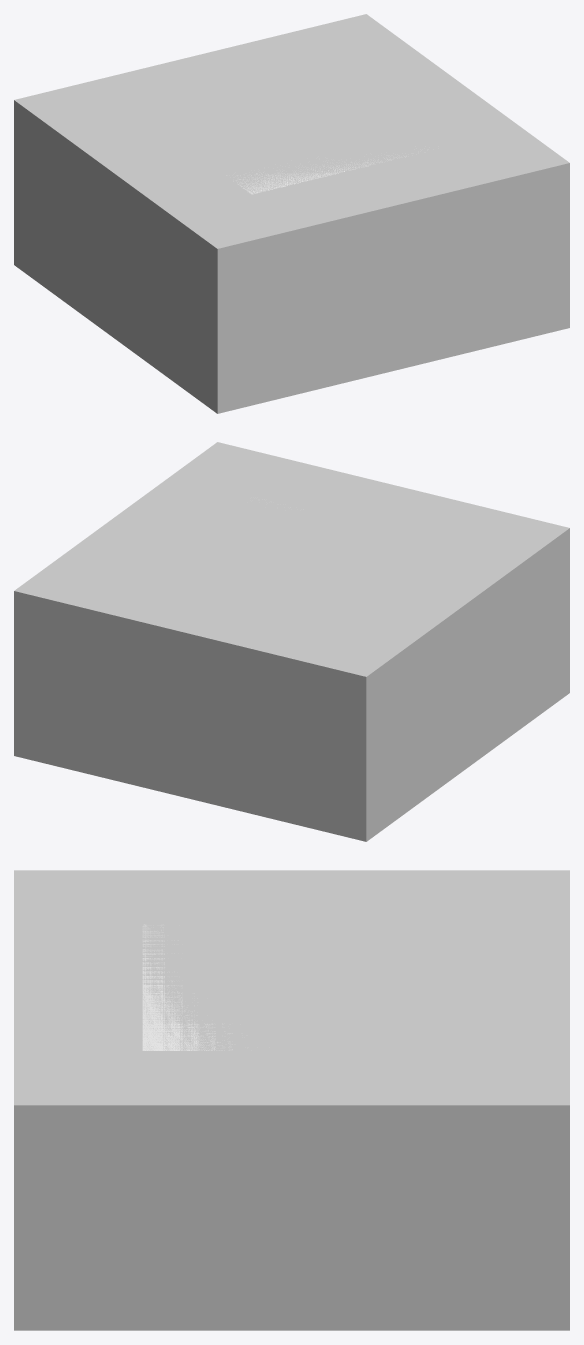
Rendered from MeCo_Medium_Display.gltf.
3 renders of one model, top to bottom at view 1: azimuth 30°, elevation 25°; view 2: azimuth 150°, elevation 25°; view 3: azimuth 270°, elevation 25°, orthographic. The views are drawn at different scales.
Visible parts, largest first — view 1: MeCo_Medium_Display_bcol, MeCo_Medium_Display.001; view 2: MeCo_Medium_Display_bcol; view 3: MeCo_Medium_Display_bcol, MeCo_Medium_Display.001.
Boxes of the visible parts, left/top/right/bottom form: MeCo_Medium_Display_bcol: left=14, top=14, right=569, bottom=413; MeCo_Medium_Display.001: left=226, top=156, right=406, bottom=194; MeCo_Medium_Display_bcol: left=14, top=442, right=569, bottom=841; MeCo_Medium_Display_bcol: left=14, top=870, right=569, bottom=1330; MeCo_Medium_Display.001: left=142, top=924, right=232, bottom=1050.
Size of the model in its own units: 2.03 by 0.9099 by 2.03.
2 materials, 1 textured.
